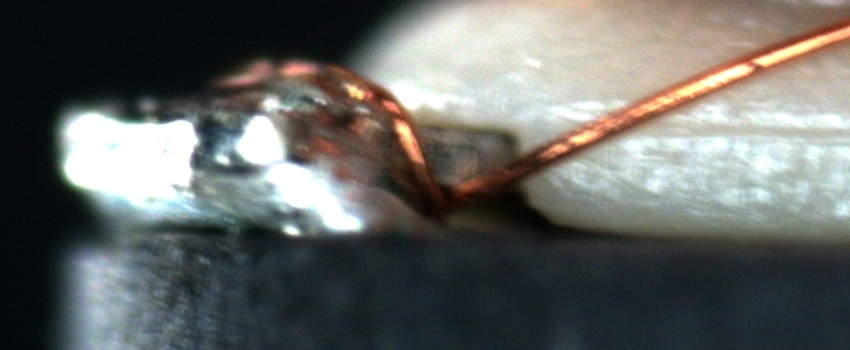DL: (608, 95, 850, 165)
TE: (223, 47, 444, 208)
